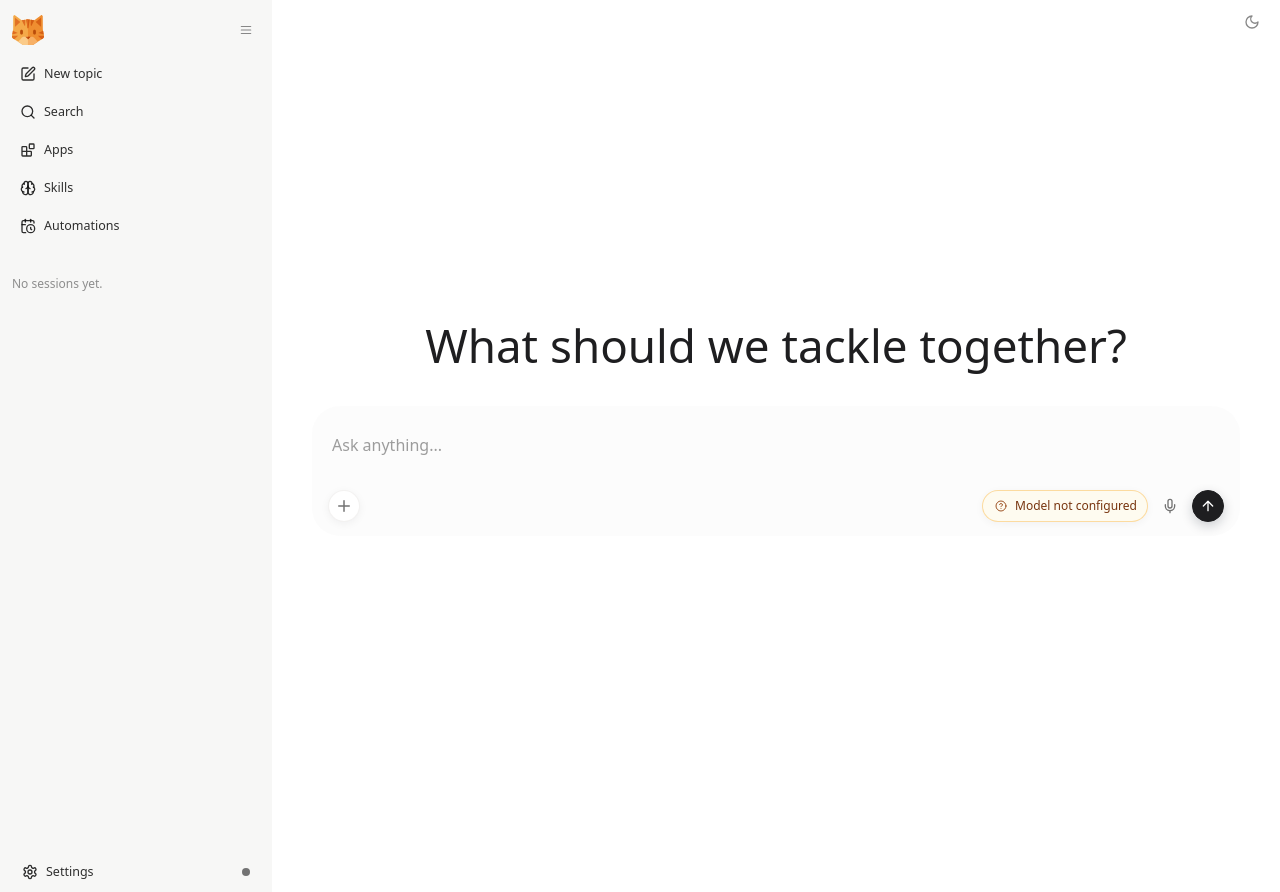
Test: App layout › updates the URL hash when switching settings sections
Click the button "Settings". click: (118, 872)
box: [10, 856, 226, 888]
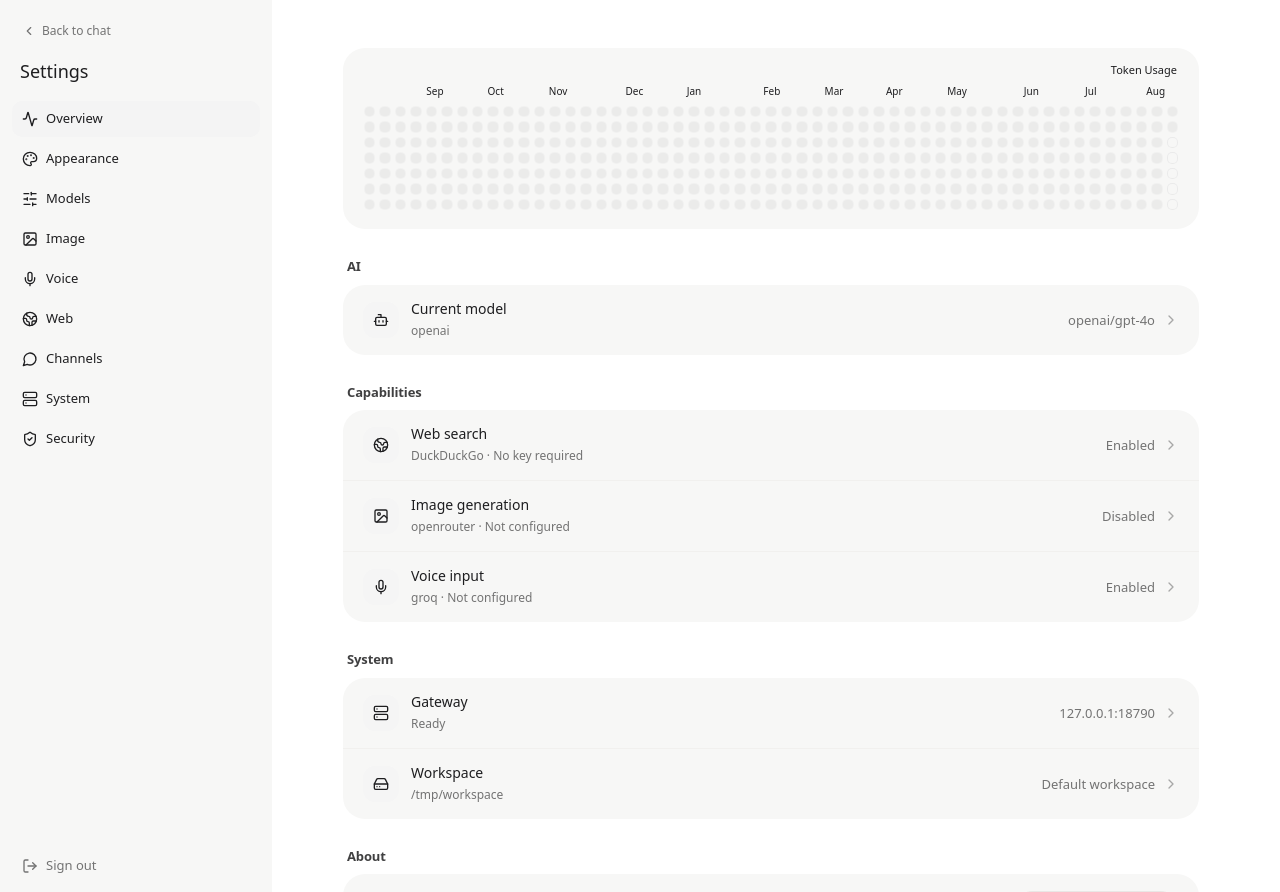
Now the navigation bar named "Settings sections" is shown, box [12, 101, 260, 457]
Click the button "Models". click: (136, 199)
box: [12, 181, 260, 217]
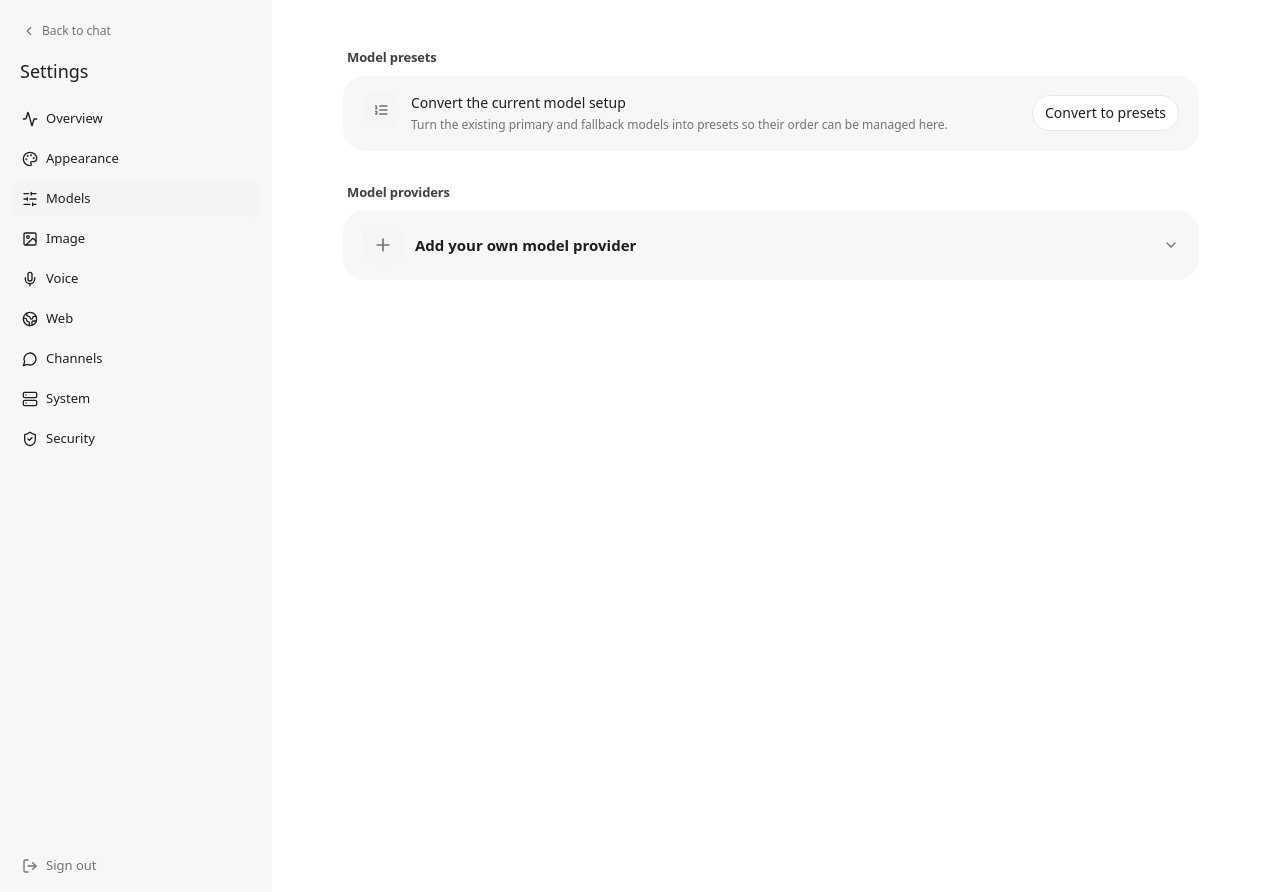
Now the heading "Model presets" is shown, box [347, 48, 437, 66]
Click the button "Voice". click: (136, 279)
box: [12, 261, 260, 297]
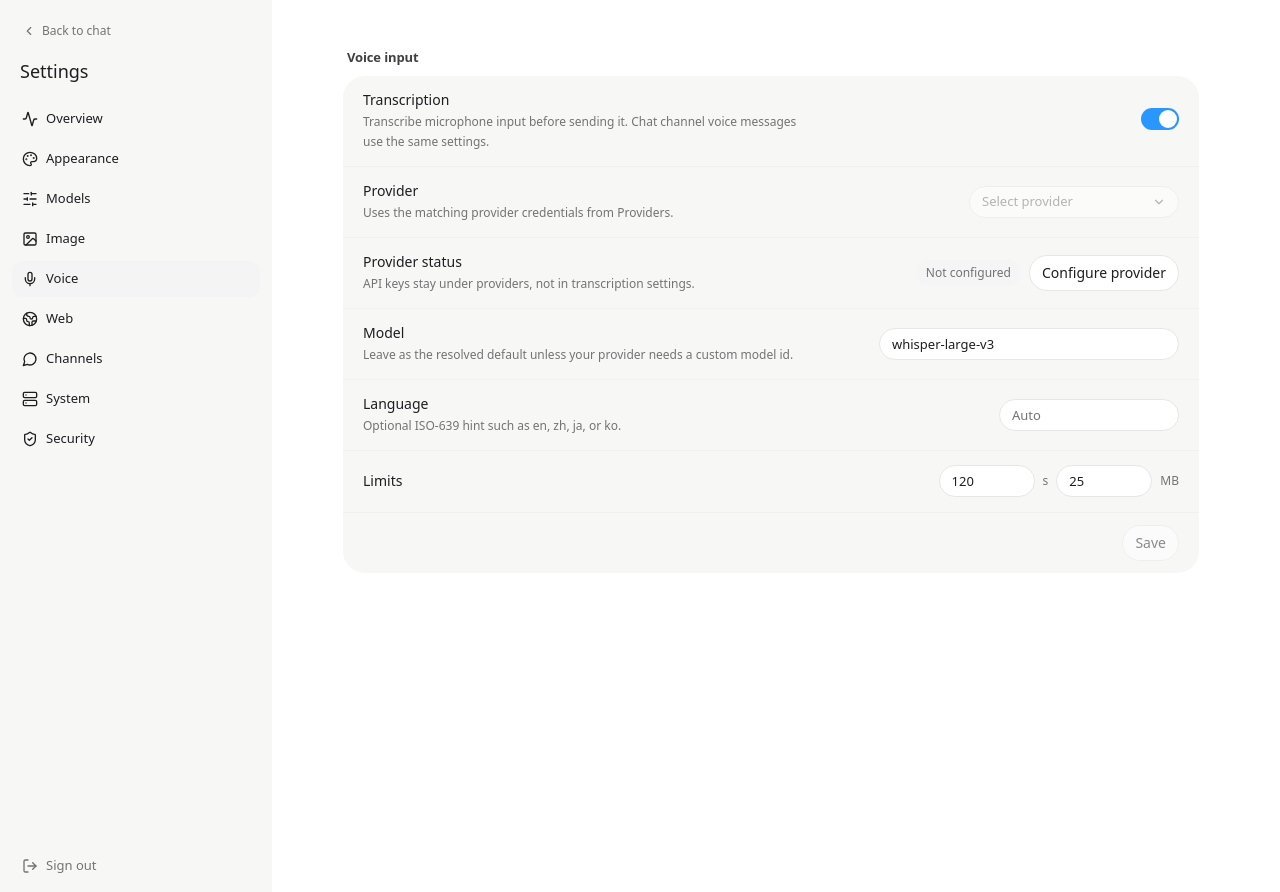
Now the heading "Voice input" is shown, box [347, 48, 418, 66]
